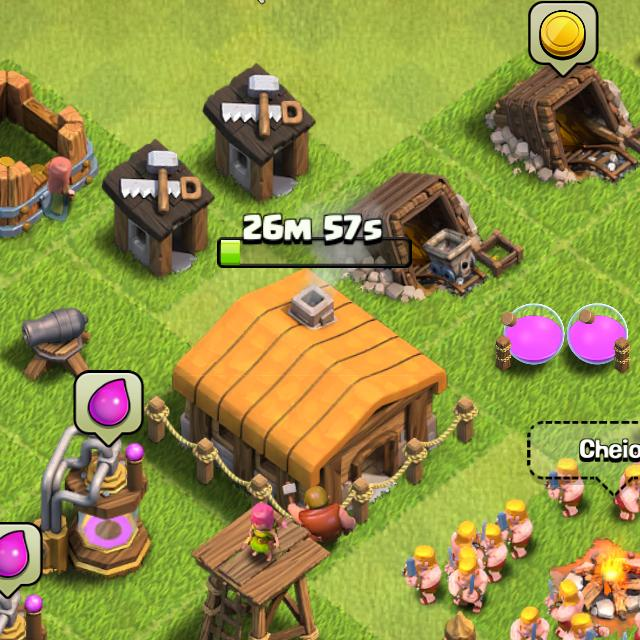Elixir: (75, 367, 144, 448), (0, 522, 44, 600)
coin: (532, 3, 597, 77)
